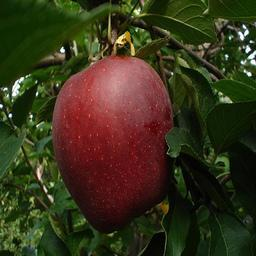apple: (51, 56, 172, 232)
